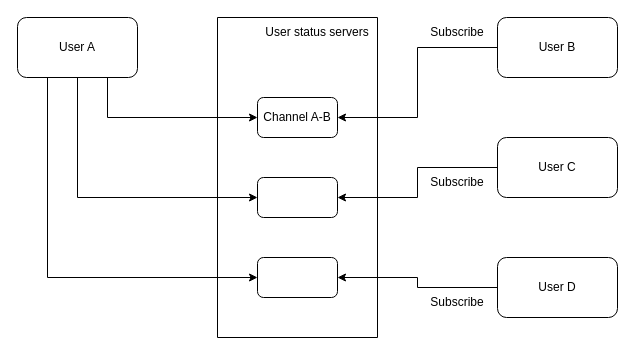
Some shapes in this 635 by 355 pixel diagram are drawn without their labels. Each missing label, with the centre of its shape:
"Channel A-C" belongs at pixel 297 197.
"Channel A-D" belongs at pixel 297 277.
